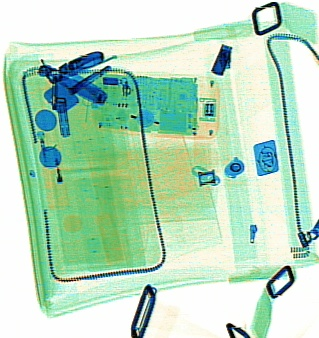lighter: (30, 122, 71, 209)
